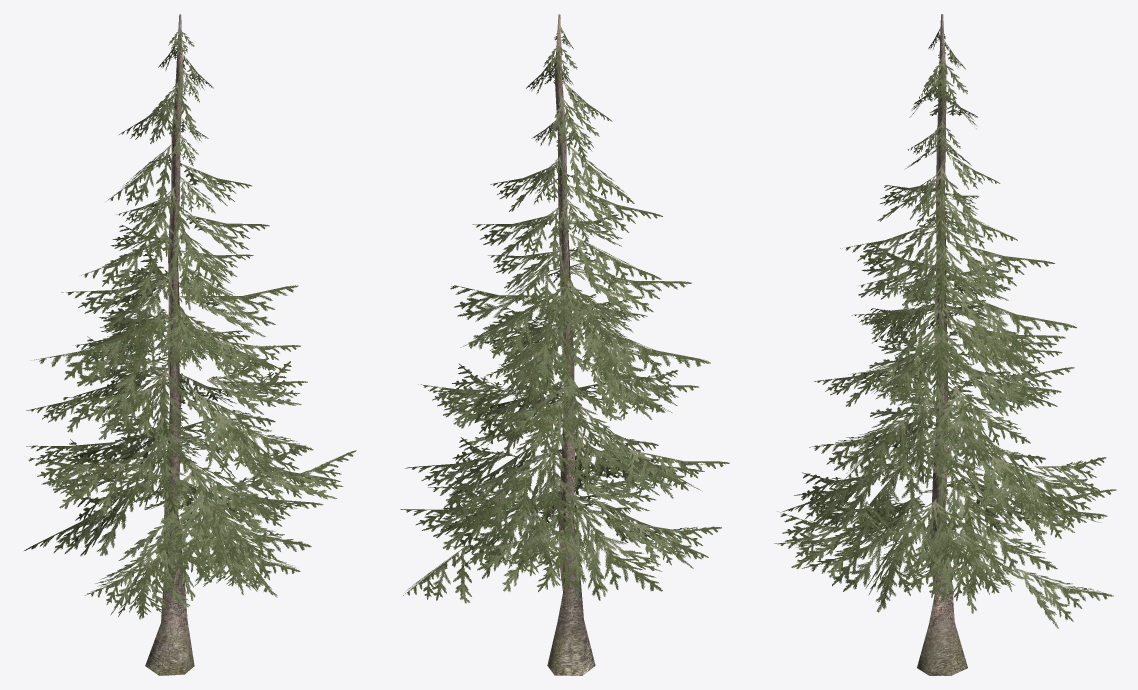
The model's file is Spruce_7_LOD3.fbx.
The picture shows the model from 3 angles, left to right: view 1: azimuth 30°, elevation 25°; view 2: azimuth 150°, elevation 25°; view 3: azimuth 270°, elevation 25°; orthographic projection.
Parts seen in each view (by area): view 1: spruce 2_1, spruce 1_0; view 2: spruce 2_1, spruce 1_0; view 3: spruce 2_1, spruce 1_0.
Boxes of the visible parts, x1,y1,x2,y2 form: spruce 2_1: (24,27,356,619); spruce 1_0: (145,14,194,675); spruce 2_1: (400,27,729,603); spruce 1_0: (547,14,595,675); spruce 2_1: (774,27,1116,628); spruce 1_0: (917,14,967,675).
Size of the model in its own units: 248 by 500 by 246.
2 materials, 2 textured.
